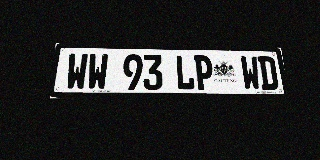3: (143, 54, 162, 90)
9: (123, 54, 143, 90)
D: (257, 56, 279, 90)
L: (175, 55, 195, 90)
P: (194, 55, 214, 90)
W: (65, 53, 88, 90), (87, 54, 108, 90), (240, 56, 261, 90)
